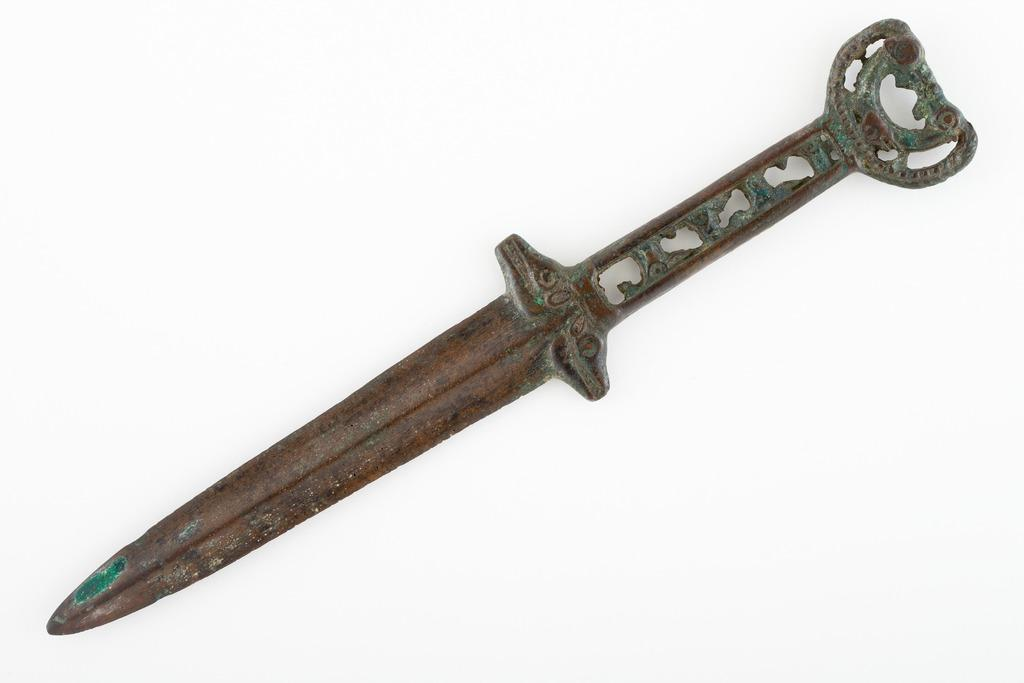Sword: (45, 17, 978, 636)
